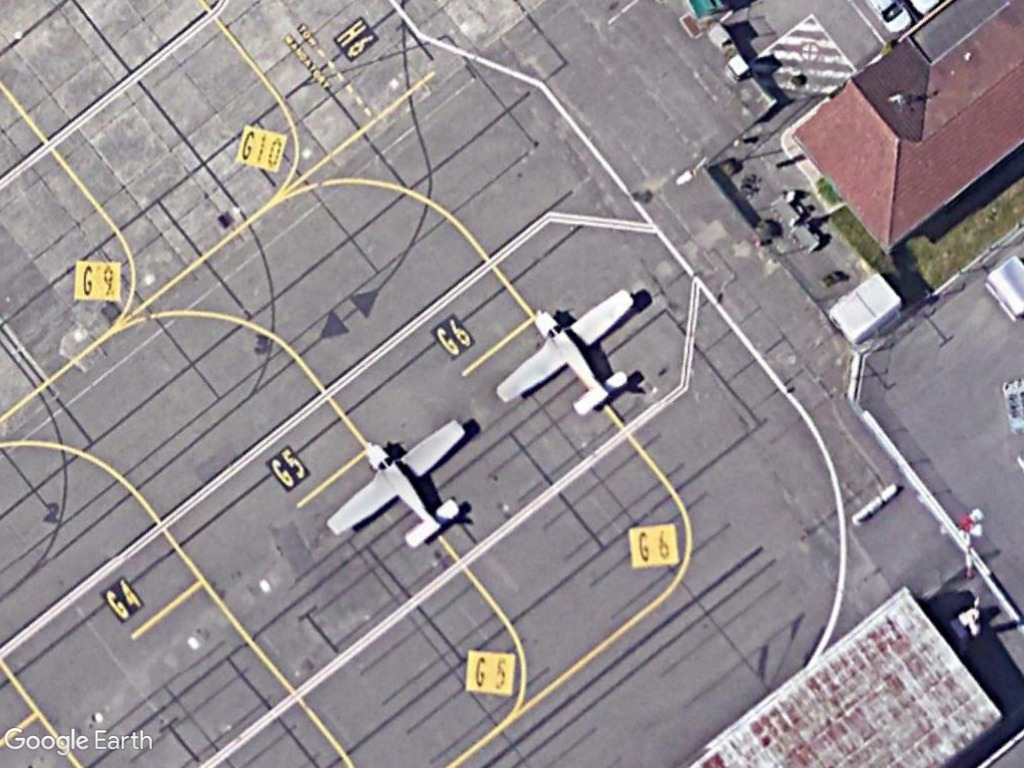trainer: (320, 416, 470, 554), (491, 284, 638, 420)
